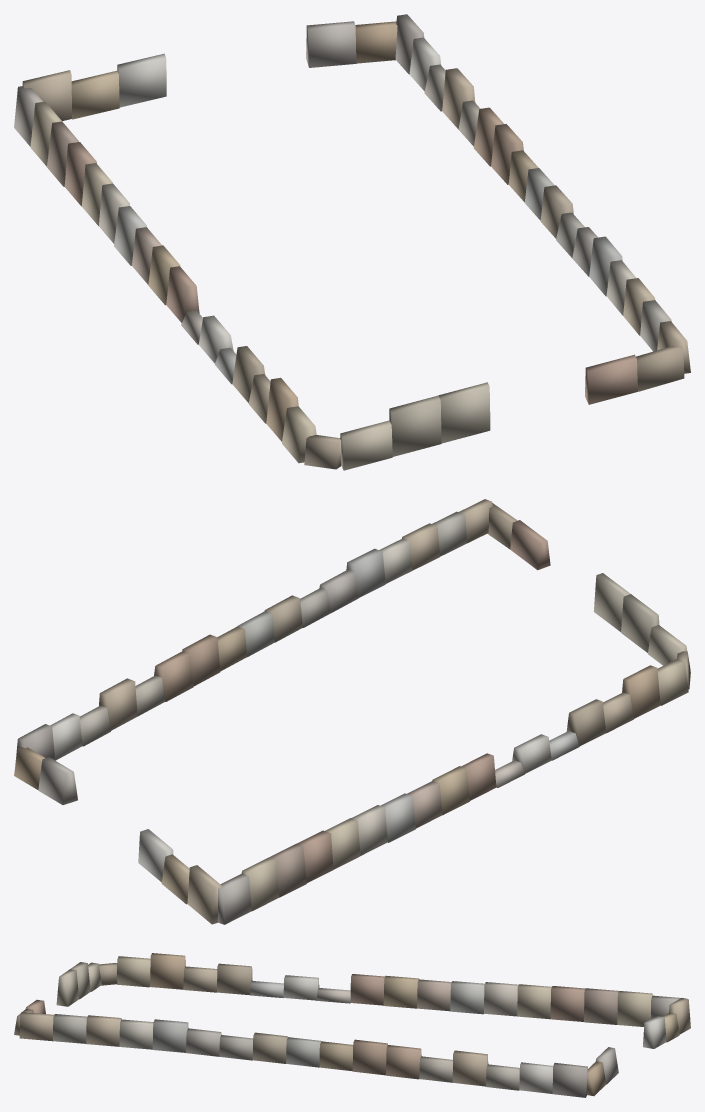
Rendered from farm_7_-5_collision.glb.
3 renders of one model, top to bottom at view 1: azimuth 30°, elevation 25°; view 2: azimuth 150°, elevation 25°; view 3: azimuth 270°, elevation 25°, orthographic. The views are drawn at different scales.
Visible parts, largest first — view 1: geometry_0; view 2: geometry_0; view 3: geometry_0.
Boxes of the visible parts, box(x1,y1,x2,y2) form: geometry_0: box(14, 14, 690, 470); geometry_0: box(14, 499, 690, 924); geometry_0: box(14, 953, 690, 1097).
Size of the model in its own units: 16.86 by 3.78 by 31.88.
